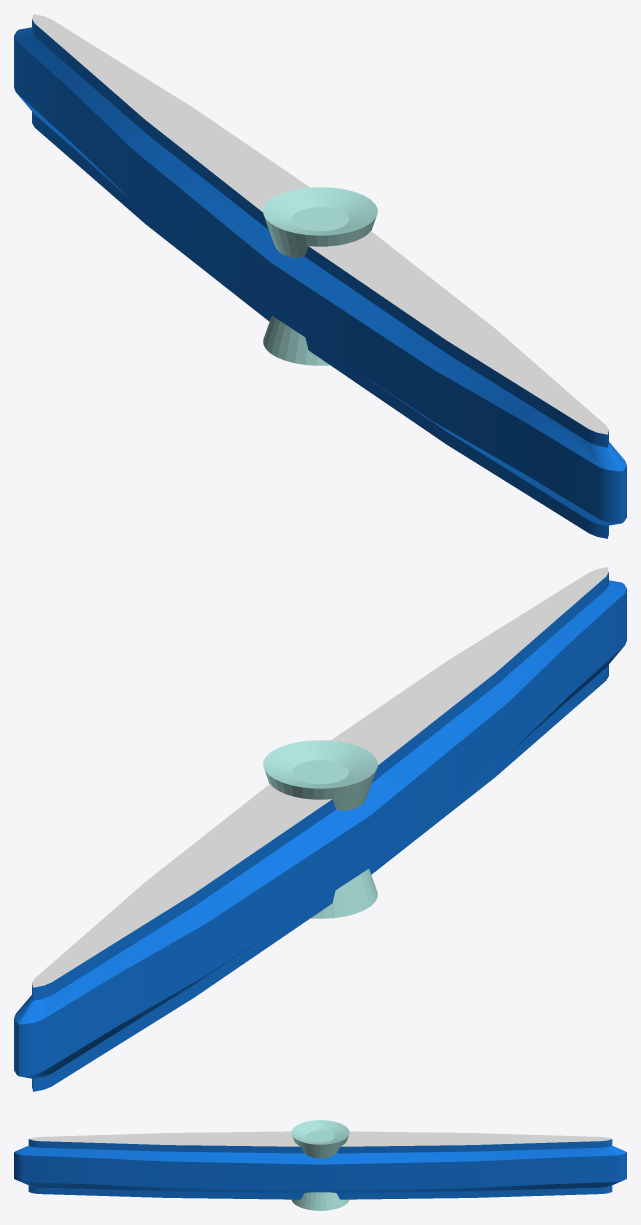
The model's file is Mixer.fbx.
The picture shows the model from 3 angles, top to bottom: view 1: azimuth 30°, elevation 25°; view 2: azimuth 150°, elevation 25°; view 3: azimuth 270°, elevation 25°; orthographic projection. The views are drawn at different scales.
Visible parts, largest first — view 1: Mixer, Screw; view 2: Mixer, Screw; view 3: Mixer, Screw.
Part boxes in pixels (x1,y1,x2,y2): Mixer: [14, 14, 626, 538]; Screw: [263, 187, 377, 365]; Mixer: [14, 567, 626, 1091]; Screw: [263, 740, 377, 918]; Mixer: [14, 1131, 626, 1199]; Screw: [291, 1120, 349, 1210].
Size of the model in its own units: 20 by 25 by 210.
